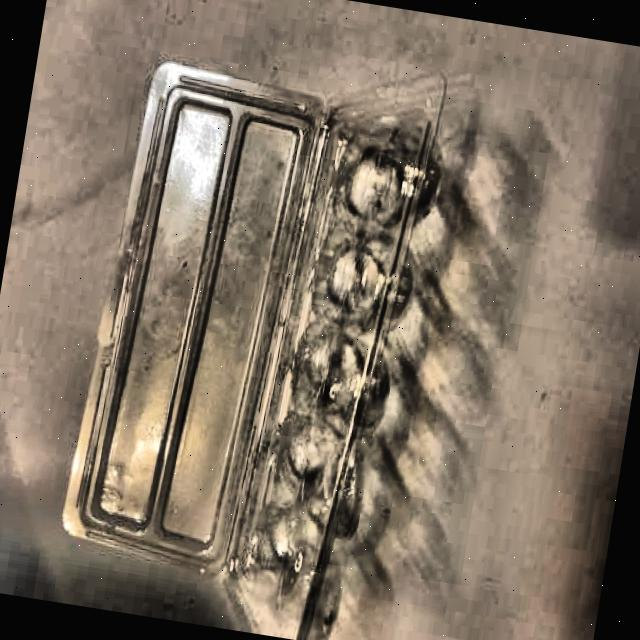plastic: (52, 39, 443, 631)
